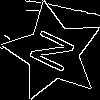N: (28, 27, 85, 80)
